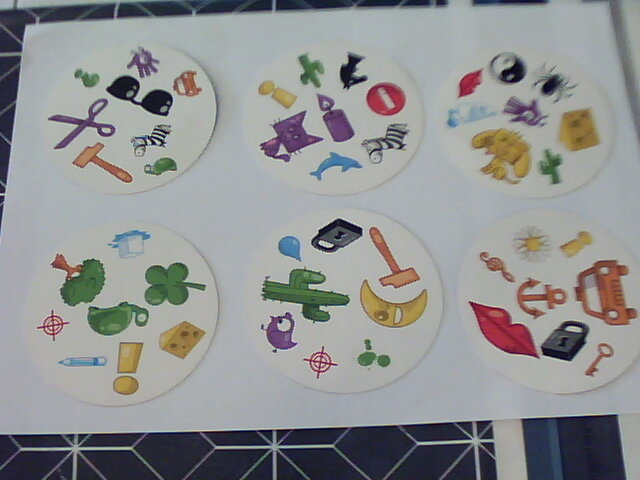ancre: (514, 274, 569, 320)
araignee: (530, 57, 585, 107)
arbre: (47, 249, 109, 309)
bouche: (464, 296, 540, 363), (454, 66, 487, 101)
bougie: (314, 91, 356, 144)
cactus: (257, 261, 351, 328), (295, 47, 333, 90), (537, 145, 566, 188)
cadenas: (539, 318, 593, 363), (310, 215, 364, 256)
chat: (249, 109, 326, 164)
cheval: (336, 48, 371, 91)
chien: (468, 126, 536, 186)
cible: (302, 341, 340, 379), (37, 308, 74, 343)
ciseau: (39, 96, 119, 151)
cle: (580, 341, 616, 380)
crayon: (58, 346, 110, 374)
dauphin: (305, 149, 366, 185)
dooble: (501, 93, 552, 130), (124, 45, 164, 79)
fantome: (437, 97, 500, 130)
fleur: (508, 221, 557, 268)
fromage: (553, 104, 604, 153), (156, 315, 207, 363)
glacon: (105, 223, 153, 263)
goutte: (274, 233, 309, 264)
lune: (353, 278, 430, 331)
lunette: (102, 72, 175, 119)
marteau: (366, 222, 423, 291), (71, 140, 135, 187)
note: (475, 248, 522, 286)
oiseau: (258, 310, 300, 357)
point_exclamation: (111, 340, 148, 399), (257, 76, 299, 111), (556, 226, 593, 261)
point_interrogation: (70, 66, 103, 90)
sens_interdit: (362, 77, 408, 117)
tache: (355, 336, 395, 372)
tortue: (83, 301, 154, 340), (139, 153, 186, 179)
trefle: (137, 261, 212, 308)
voiture: (571, 257, 639, 330), (571, 257, 640, 328), (169, 67, 206, 99)
ying_yang: (487, 48, 532, 87)
zebre: (357, 119, 411, 167), (128, 120, 174, 157)
